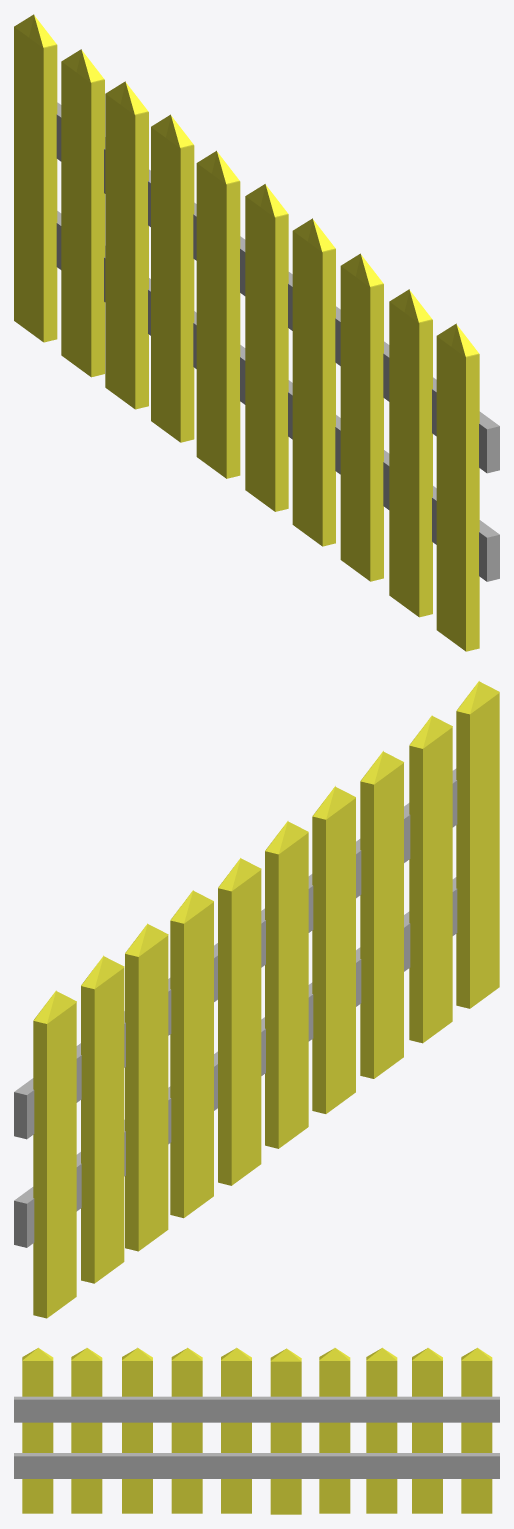
Rendered from FENCE.fbx.
3 renders of one model, top to bottom at view 1: azimuth 30°, elevation 25°; view 2: azimuth 150°, elevation 25°; view 3: azimuth 270°, elevation 25°, orthographic. The views are drawn at different scales.
Visible parts, largest first — view 1: Cube.009; view 2: Cube.009; view 3: Cube.009.
Part boxes in pixels (box(x1,y1,x2,y2)): Cube.009: box(14, 14, 499, 651); Cube.009: box(14, 681, 499, 1318); Cube.009: box(14, 1347, 499, 1514).
Size of the model in its own units: 63.79 by 722 by 1924.
